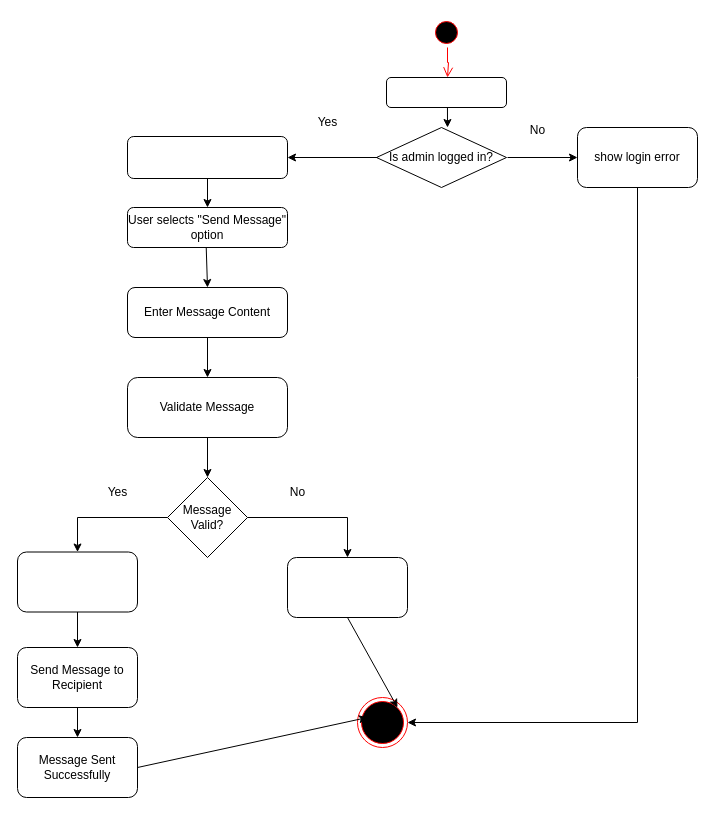
This 715x815 diagram has some shape labels left out. Here are the shapes that lost their labels. From the top down, the centre of each, then its label:
point 446,92: Log in to system
point 207,157: Display User's Messages
point 77,581: Save Message in Database
point 347,587: Show Error Message (Invalid Content)
